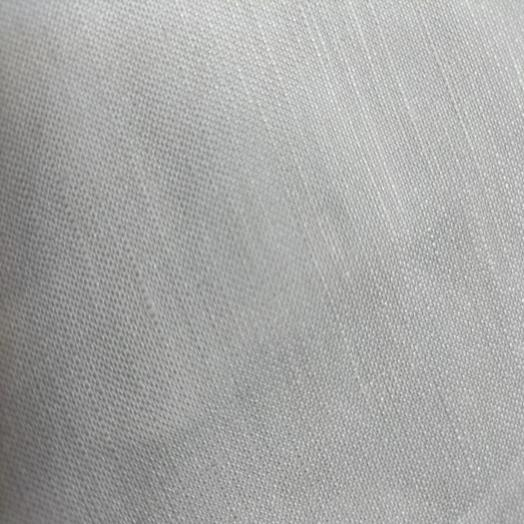linen: (0, 1, 524, 524)
